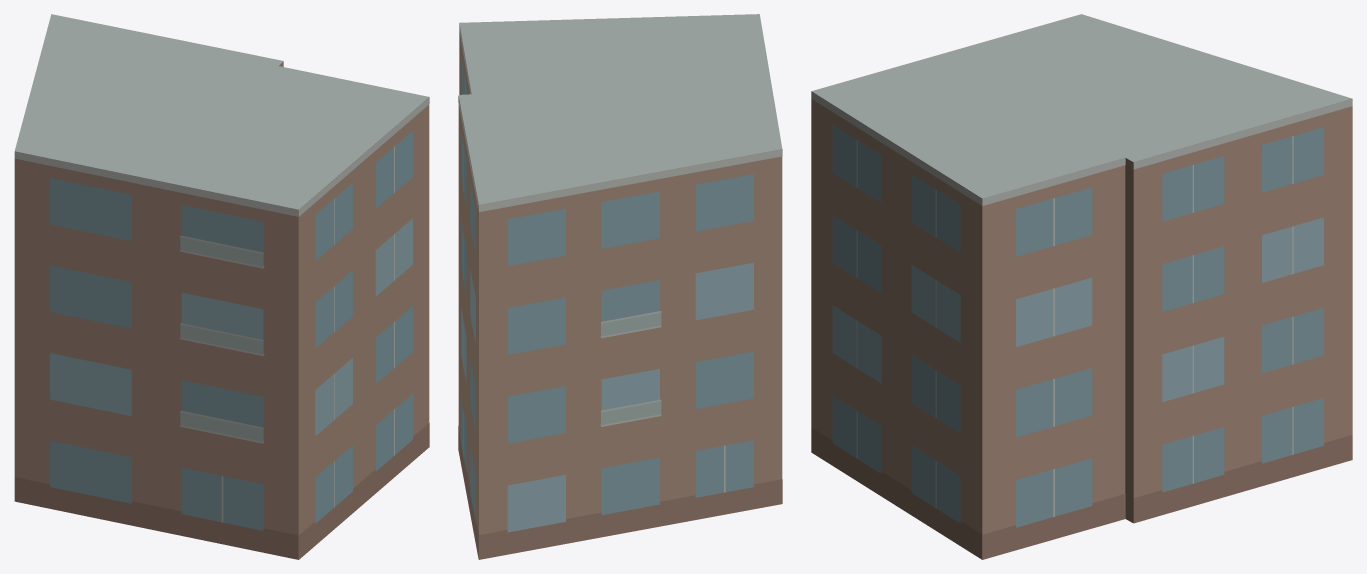
The model's file is survey-upis-32508758.glb.
The picture shows the model from 3 angles, left to right: view 1: azimuth 30°, elevation 25°; view 2: azimuth 150°, elevation 25°; view 3: azimuth 270°, elevation 25°; orthographic projection. The views are drawn at different scales.
Parts seen in each view (by area): view 1: survey-upis-32508758.tmp; view 2: survey-upis-32508758.tmp; view 3: survey-upis-32508758.tmp.
Part boxes in pixels (left/top/right/bottom): survey-upis-32508758.tmp: left=14, top=14, right=429, bottom=559; survey-upis-32508758.tmp: left=458, top=14, right=782, bottom=559; survey-upis-32508758.tmp: left=811, top=14, right=1352, bottom=559.
Size of the model in its own units: 12.94 by 11.8 by 16.03.
